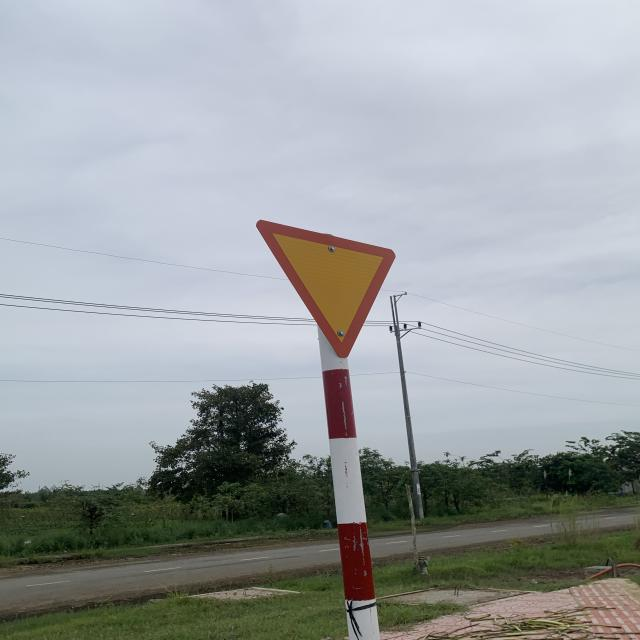Gioi_Han_Toc_Do_25: (254, 219, 397, 360)
